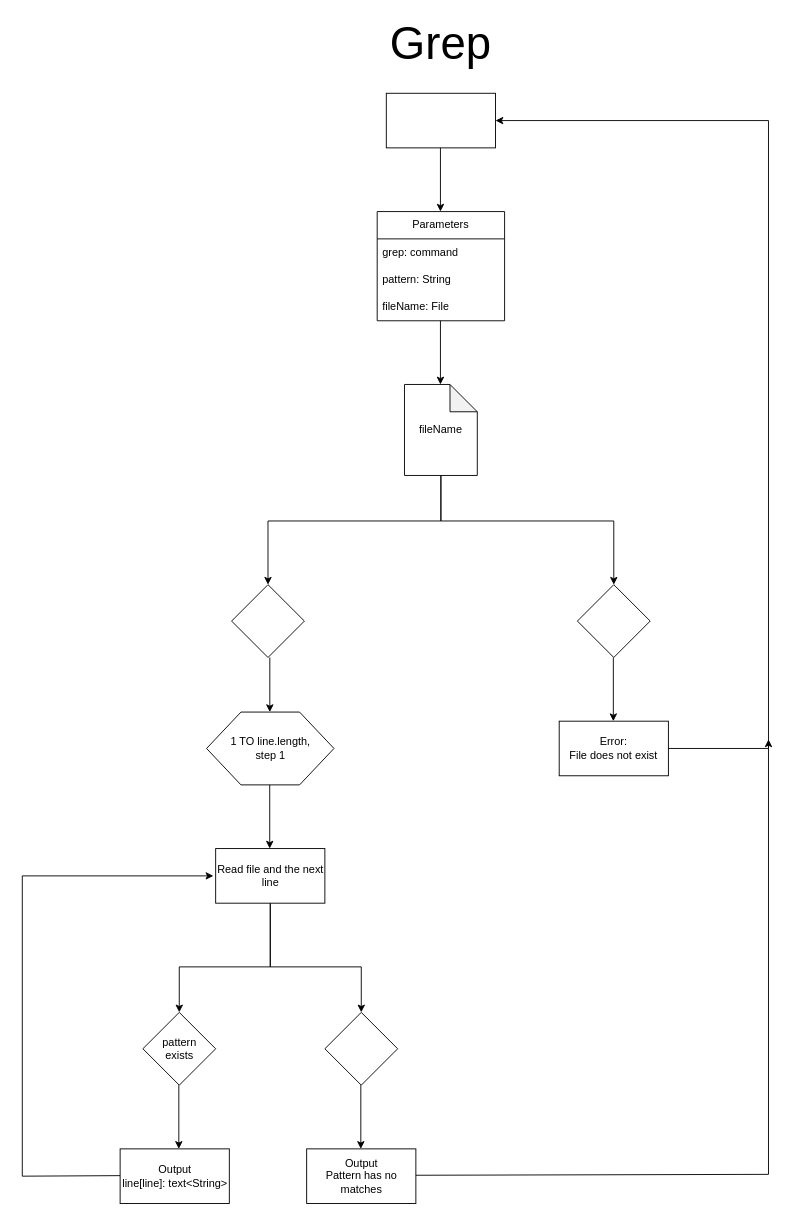
Some shapes in this 792 by 1219 pixel diagram are drawn without their labels. The centre of each missing label's shape, as x and y in pixels:
"Client" belongs at (440,120).
"fileName doesn't exist" belongs at (613,620).
"fileName exists" belongs at (267,620).
"pattern doesn't exists" belongs at (361,1048).
